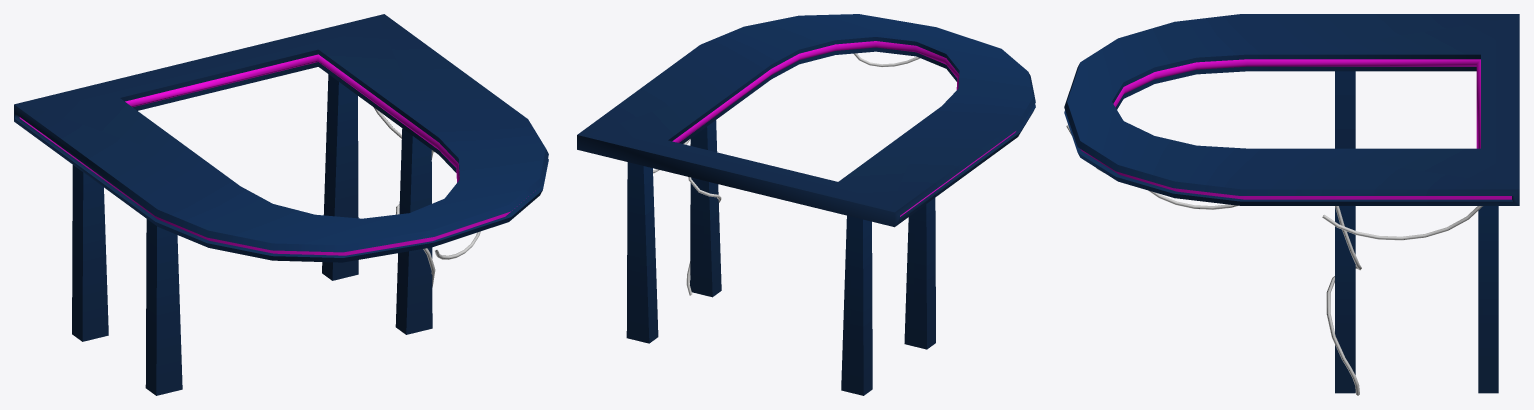
File: Pub - base.fbx
The picture shows the model from 3 angles, left to right: view 1: azimuth 30°, elevation 25°; view 2: azimuth 150°, elevation 25°; view 3: azimuth 270°, elevation 25°; orthographic projection. The views are drawn at different scales.
Parts seen in each view (by area): view 1: Pub_base; view 2: Pub_base; view 3: Pub_base.
Boxes of the visible parts, x1,y1,x2,y2 form: Pub_base: [14, 14, 548, 395]; Pub_base: [577, 14, 1035, 395]; Pub_base: [1064, 14, 1519, 395].
Bounding box in the file's own units: 820 × 493 × 888.
